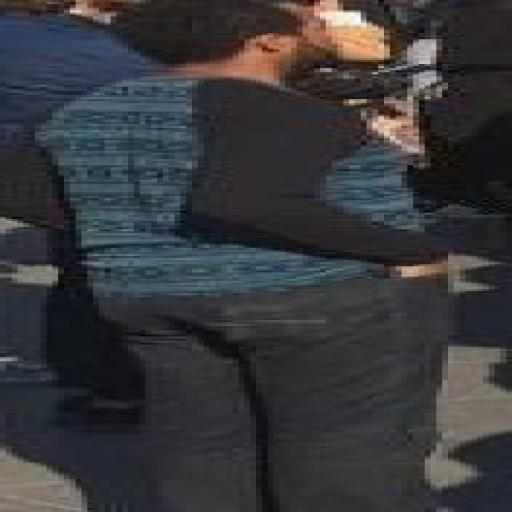person: (41, 0, 447, 511), (0, 0, 157, 423)
